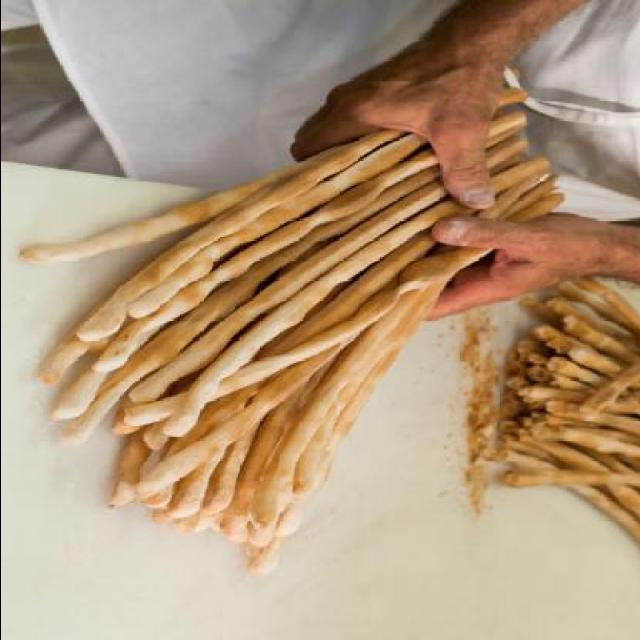Grissini: (13, 94, 556, 582)
